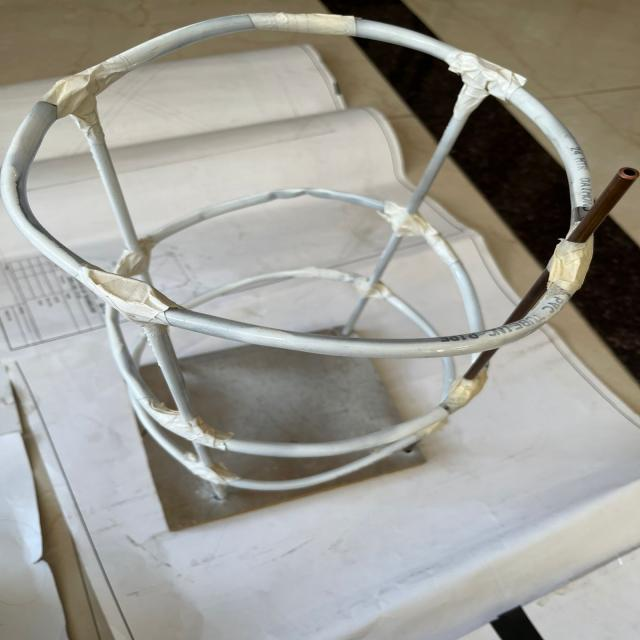silo: (6, 11, 636, 513)
